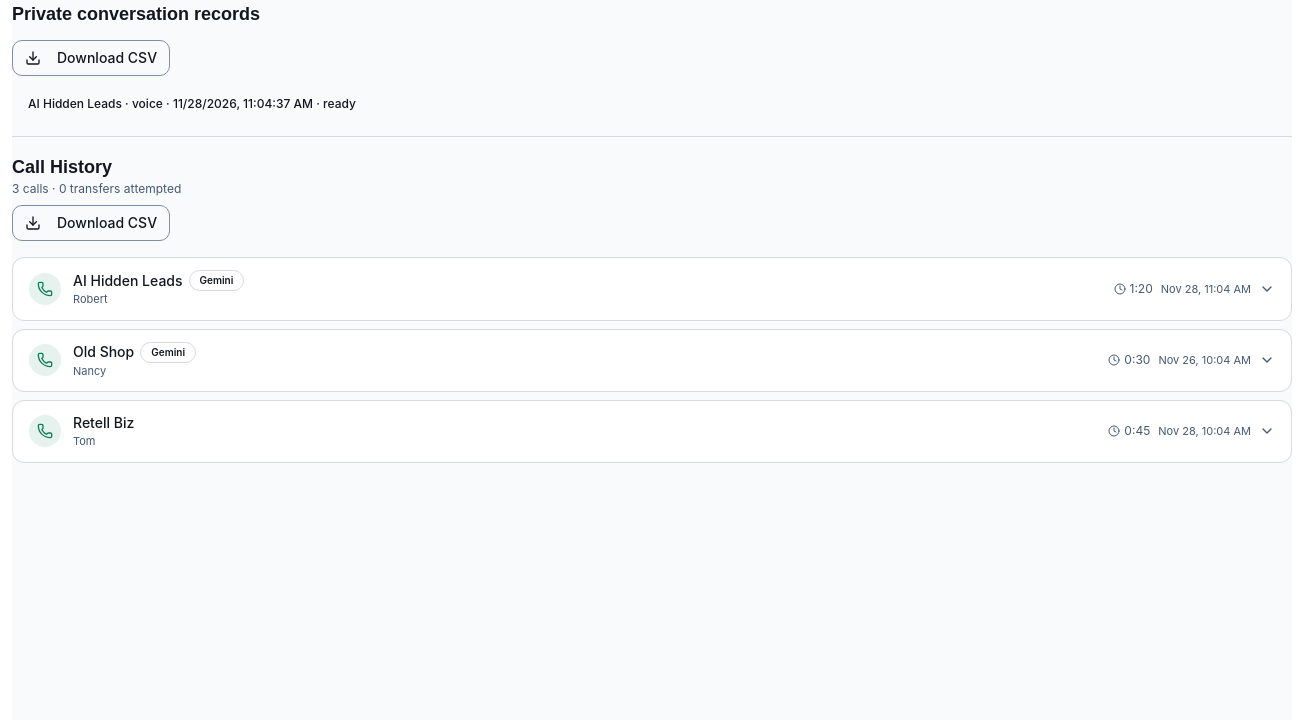
CallHistoryView — Gemini recording join › leaves Retell rows on their own recording_url path
Click the button "Retell Biz Tom 0:45 Nov 28, 10:04 AM". click: (45, 431)
box: 13,401 -> 1291,462
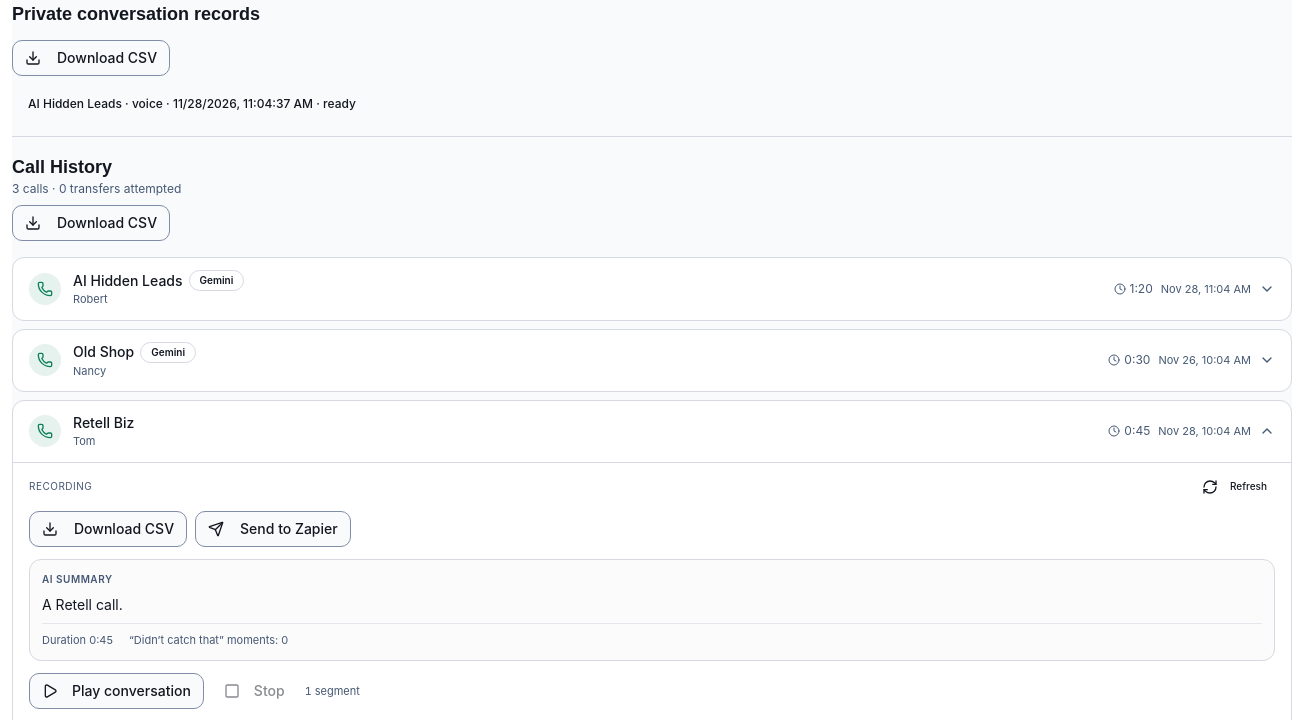
Expected: the button "Play conversation" is shown, 29,673 -> 204,709
Expected: the button "Refresh" is shown, 1194,474 -> 1275,498
